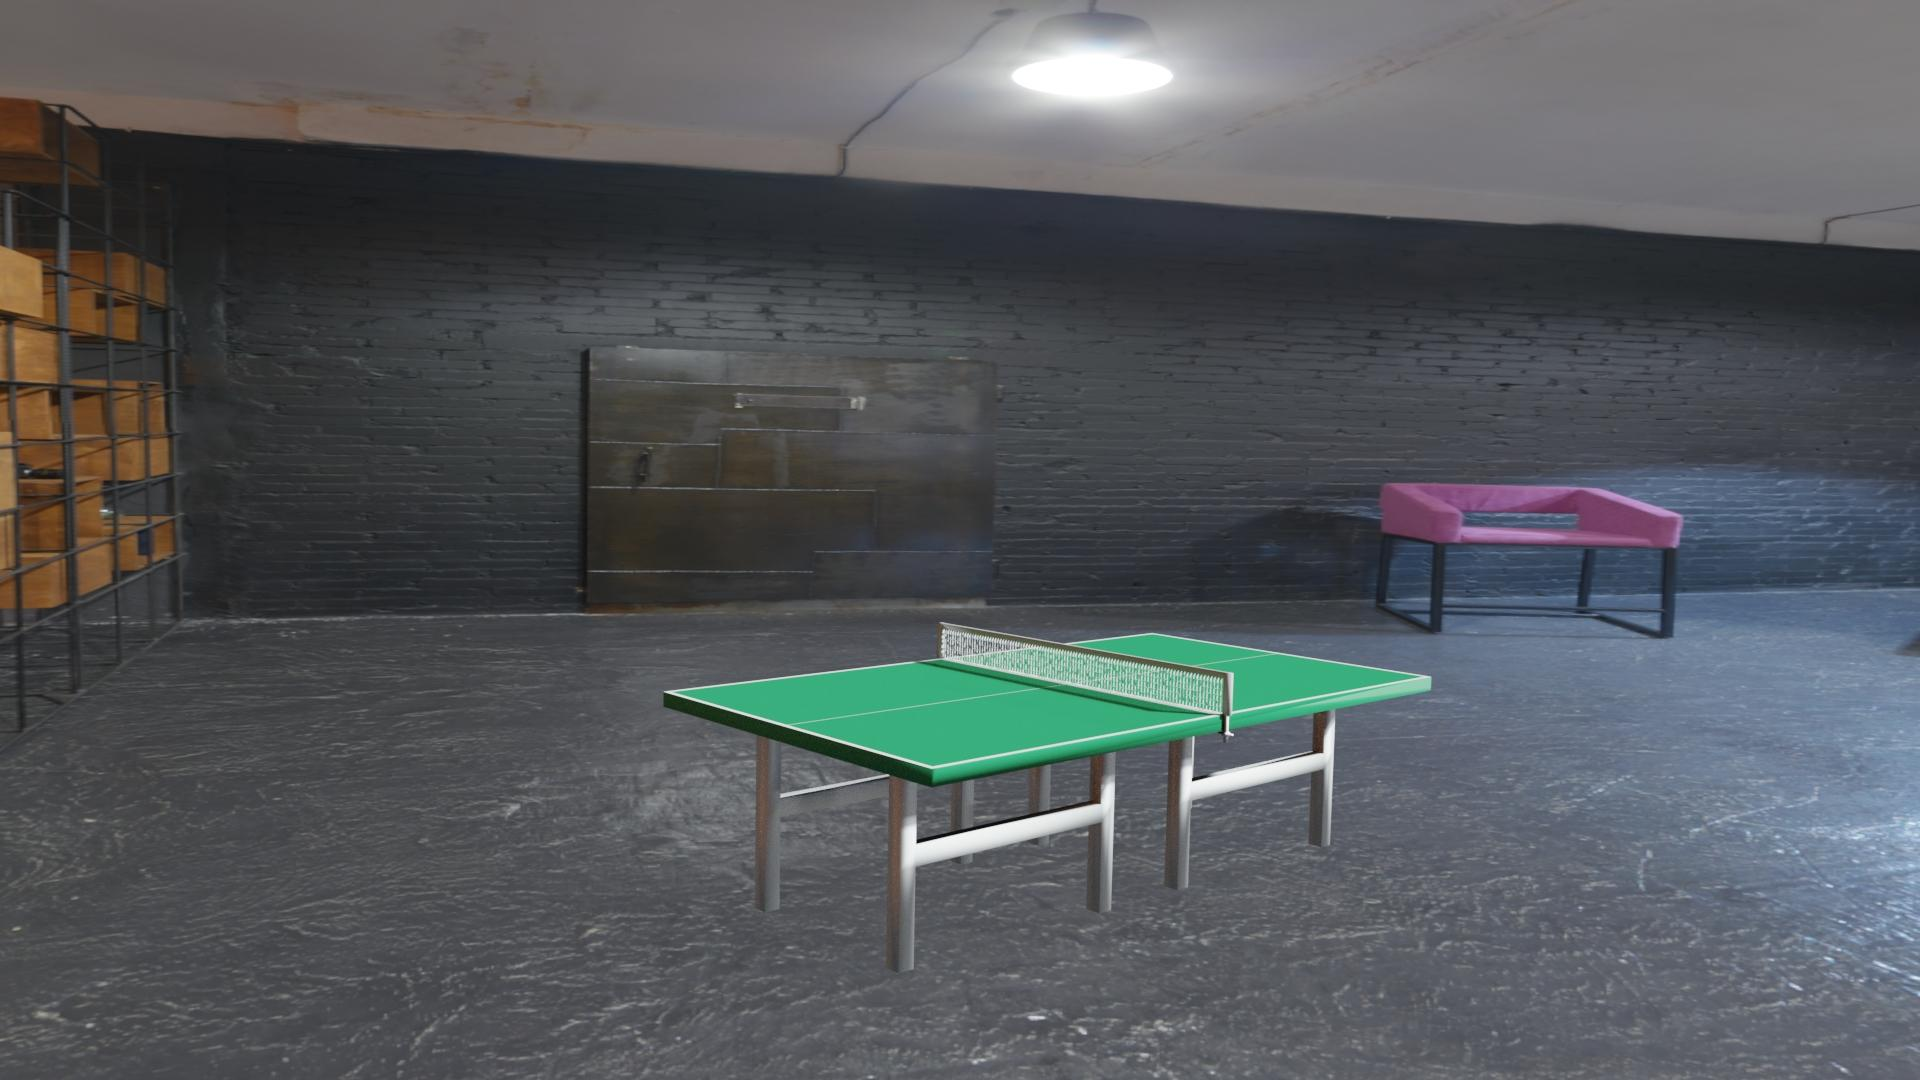table: (671, 634, 1424, 766)
